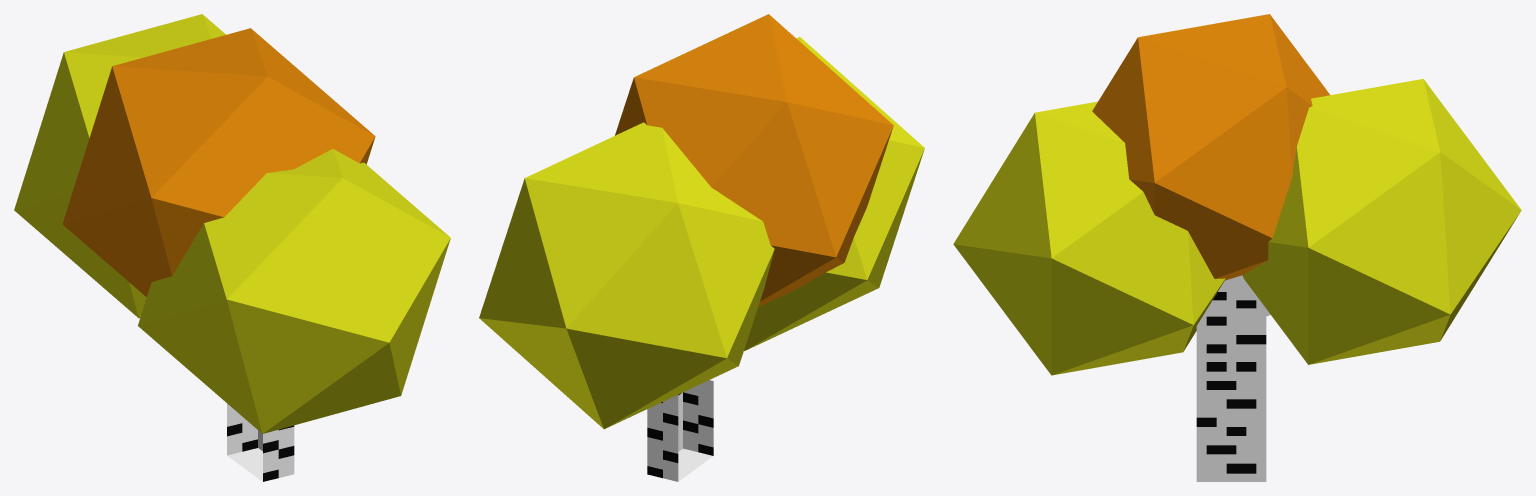
File: wood6.fbx
The picture shows the model from 3 angles, left to right: view 1: azimuth 30°, elevation 25°; view 2: azimuth 150°, elevation 25°; view 3: azimuth 270°, elevation 25°; orthographic projection. The views are drawn at different scales.
Visible parts, largest first — view 1: wood.005; view 2: wood.005; view 3: wood.005.
Part boxes in pixels (x1,y1,x2,y2): wood.005: [14, 14, 450, 481]; wood.005: [479, 14, 924, 481]; wood.005: [953, 14, 1521, 481].
Size of the model in its own units: 190 by 276 by 340.
